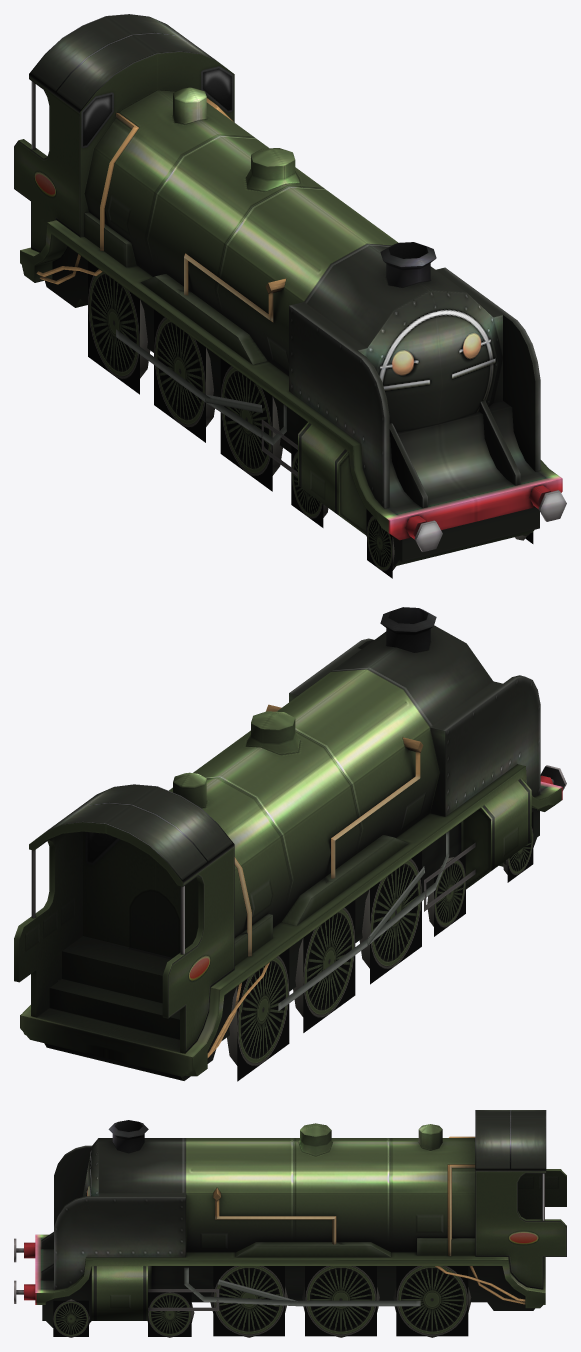
File: Train06_Engine.fbx
3 renders of one model, top to bottom at view 1: azimuth 30°, elevation 25°; view 2: azimuth 150°, elevation 25°; view 3: azimuth 270°, elevation 25°, orthographic. The views are drawn at different scales.
Parts seen in each view (by area): view 1: Empty_Mesh; view 2: Empty_Mesh; view 3: Empty_Mesh.
Part boxes in pixels (x1=…): Empty_Mesh: x1=14, y1=14, x2=566, y2=578; Empty_Mesh: x1=14, y1=607, x2=566, y2=1081; Empty_Mesh: x1=14, y1=1110, x2=566, y2=1337.
Size of the model in its own units: 1.83 by 2.61 by 6.59.
